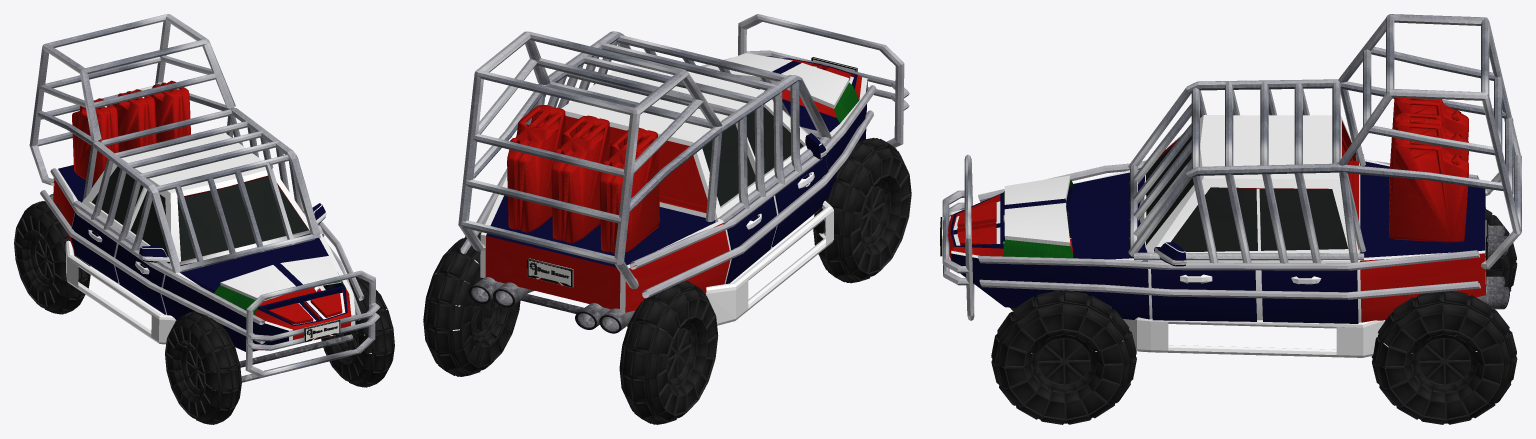
Rendered from dune runner.FBX.
3 views of the same model, side by side, from view 1: azimuth 30°, elevation 25°; view 2: azimuth 150°, elevation 25°; view 3: azimuth 270°, elevation 25° (orthographic). The views are drawn at different scales.
Parts seen in each view (by area): view 1: dune runner body, front wheel right, back wheel right, front wheel left; view 2: dune runner body, back wheel right, front wheel right, back wheel left; view 3: dune runner body, front wheel left, back wheel left, back wheel right.
Part boxes in pixels (x1=…): dune runner body: x1=29, y1=14, x2=380, y2=382; front wheel right: x1=165, y1=311, x2=241, y2=424; back wheel right: x1=14, y1=201, x2=90, y2=314; front wheel left: x1=321, y1=277, x2=394, y2=387; dune runner body: x1=458, y1=14, x2=909, y2=333; back wheel right: x1=619, y1=281, x2=718, y2=424; front wheel right: x1=813, y1=138, x2=911, y2=283; back wheel left: x1=423, y1=232, x2=520, y2=376; dune runner body: x1=940, y1=14, x2=1521, y2=357; front wheel left: x1=991, y1=290, x2=1136, y2=424; back wheel left: x1=1371, y1=291, x2=1517, y2=424; back wheel right: x1=1486, y1=209, x2=1517, y2=291.
Size of the model in its own units: 38.53 by 48.7 by 80.05.
12 materials, 12 textured.
